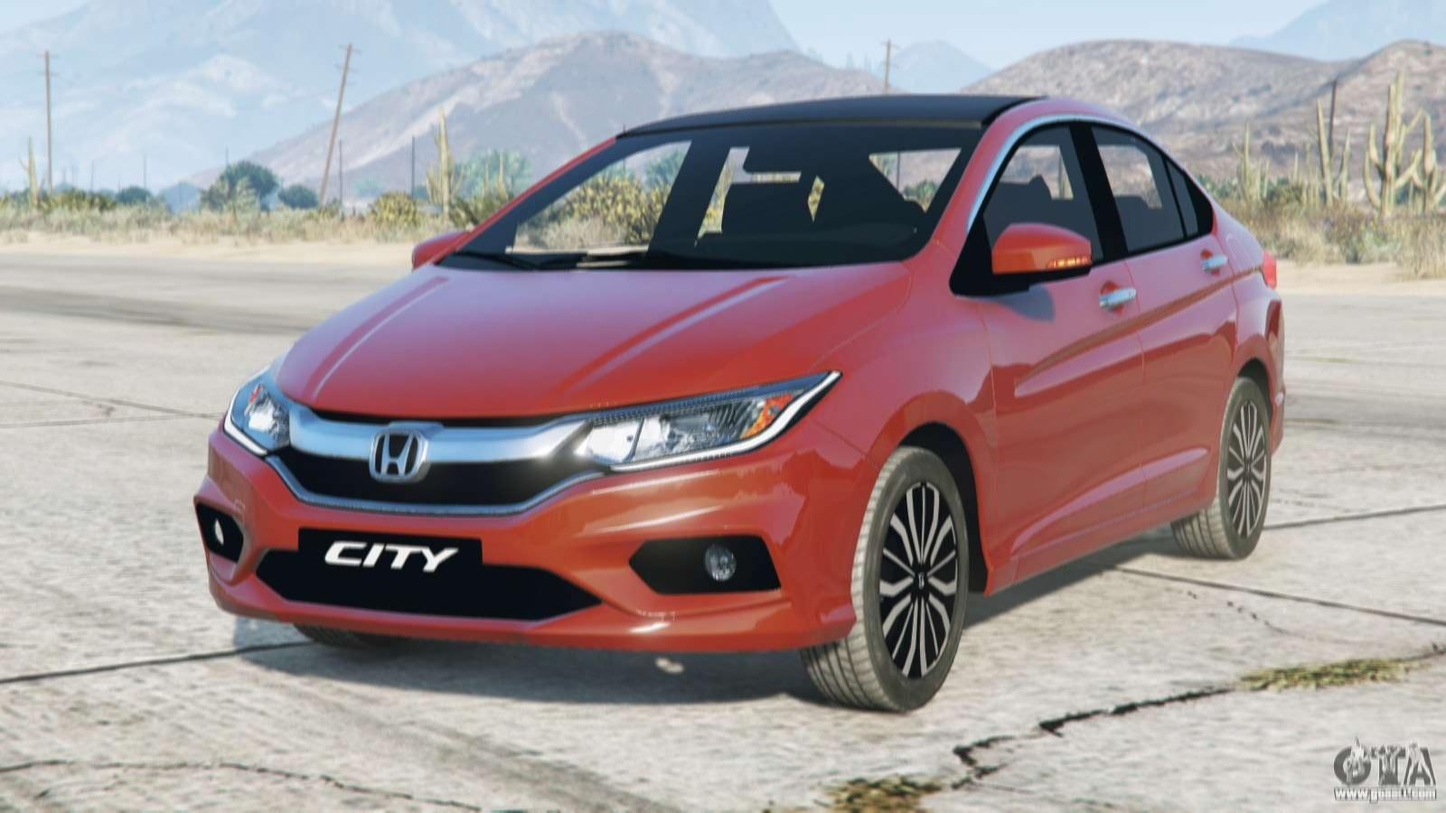Car hood: (260, 252, 926, 414)
Fender - -F-L-: (793, 235, 1004, 633)
Fender - -R-L-: (1207, 192, 1291, 484)
Front bumper: (182, 421, 885, 657)
Headlight - -L-: (574, 369, 842, 474)
Headlight - -R-: (223, 367, 291, 459)
Passenger-s door - -F-L-: (961, 79, 1162, 606)
Passenger-s door - -R-L-: (1076, 85, 1243, 562)
Side bumper - -L-: (968, 454, 1225, 637)
Side mirror - -L-: (961, 218, 1090, 299)
